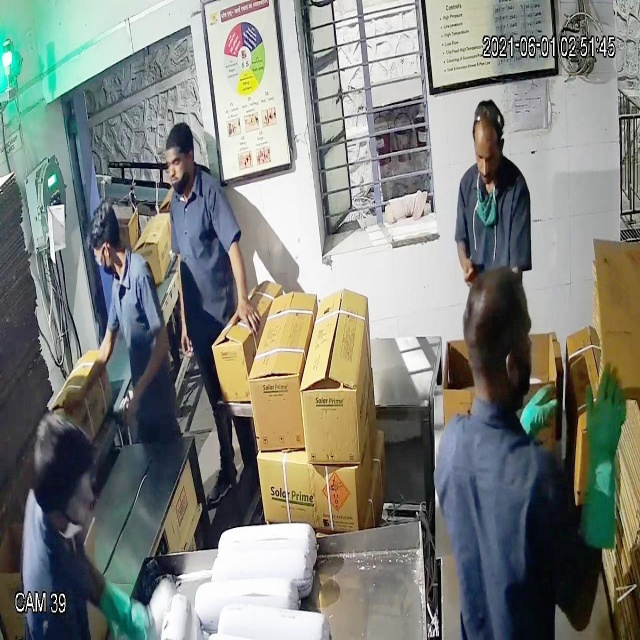Sin_gafas: (158, 147, 201, 180), (470, 139, 507, 168)
